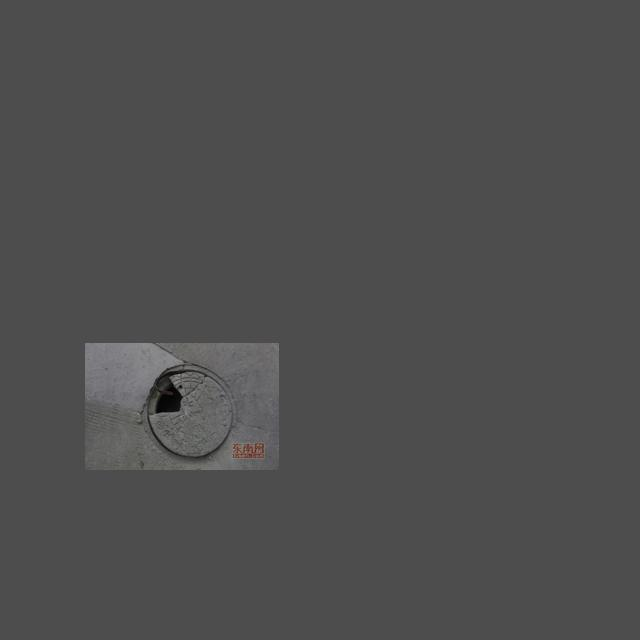broke: (139, 361, 239, 462)
